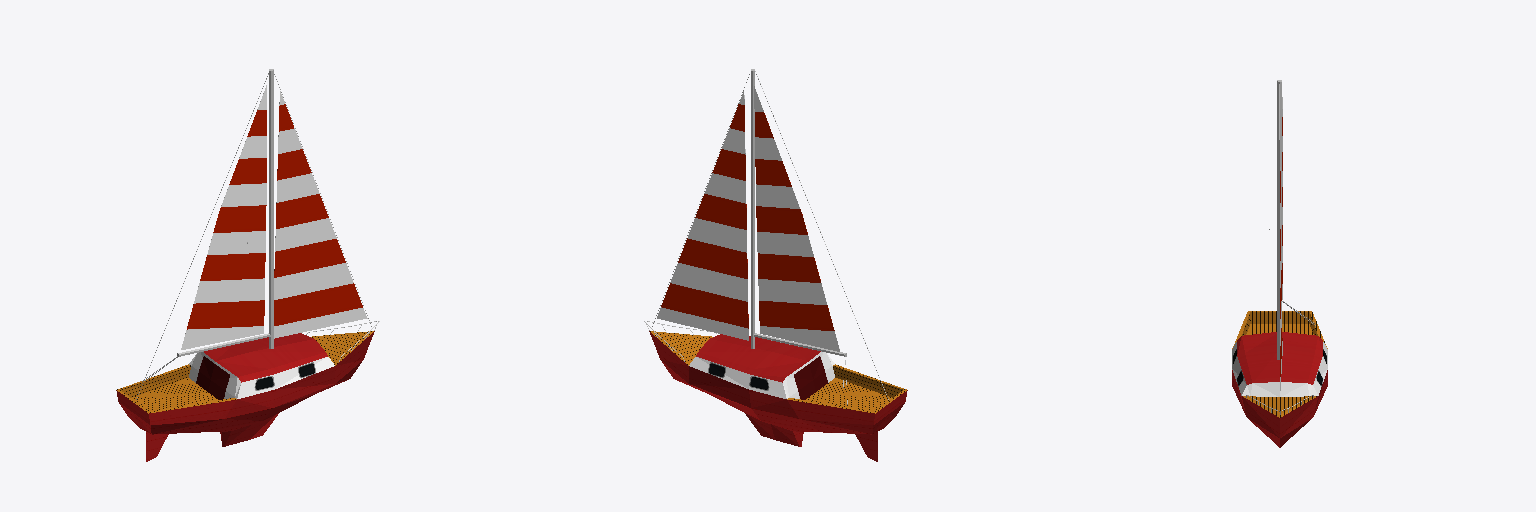
3 renders of one model, left to right at view 1: azimuth 30°, elevation 25°; view 2: azimuth 150°, elevation 25°; view 3: azimuth 270°, elevation 25°, orthographic.
Parts seen in each view (by area): view 1: Plane09, Plane10, boat, Object03, Object02, Object01, Cylinder04; view 2: Plane09, Plane10, boat, Object03, Object02, Object01, Cylinder04; view 3: Object02, Object03, boat, Object01, Cylinder04.
Part boxes in pixels (bbox=[...]): Plane09: bbox=[274, 91, 367, 338]; Plane10: bbox=[181, 85, 266, 349]; boat: bbox=[116, 331, 374, 461]; Object03: bbox=[117, 331, 373, 413]; Object02: bbox=[204, 333, 327, 382]; Object01: bbox=[189, 352, 334, 399]; Cylinder04: bbox=[269, 69, 273, 348]; Plane09: bbox=[657, 91, 748, 340]; Plane10: bbox=[754, 86, 839, 351]; boat: bbox=[649, 331, 907, 461]; Object03: bbox=[650, 331, 906, 413]; Object02: bbox=[696, 334, 820, 382]; Object01: bbox=[689, 352, 834, 399]; Cylinder04: bbox=[751, 69, 754, 348]; Object02: bbox=[1237, 332, 1322, 384]; Object03: bbox=[1232, 311, 1327, 417]; boat: bbox=[1232, 370, 1327, 447]; Object01: bbox=[1232, 342, 1327, 396]; Cylinder04: bbox=[1277, 80, 1281, 359].
Size of the model in its own units: 633 by 894 by 214.
Materials: 8 (4 with a texture image).